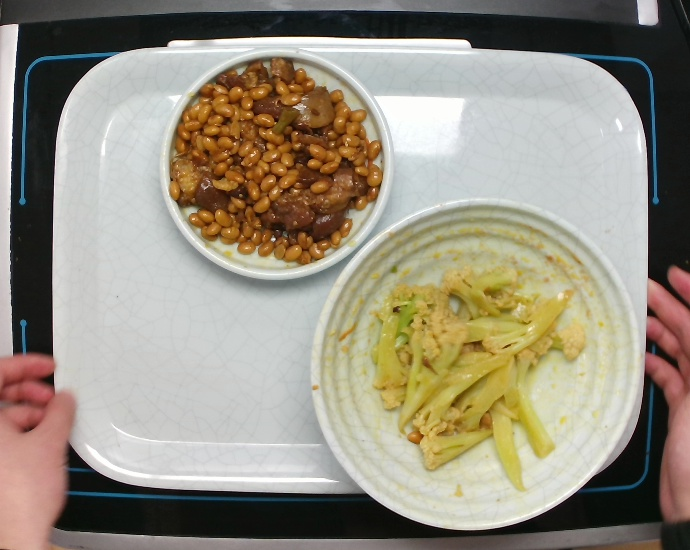JYsf-Da_Tang_Wan: (307, 193, 644, 535)
JYsf-Xiao_Yuan_Pan: (157, 46, 398, 283)
